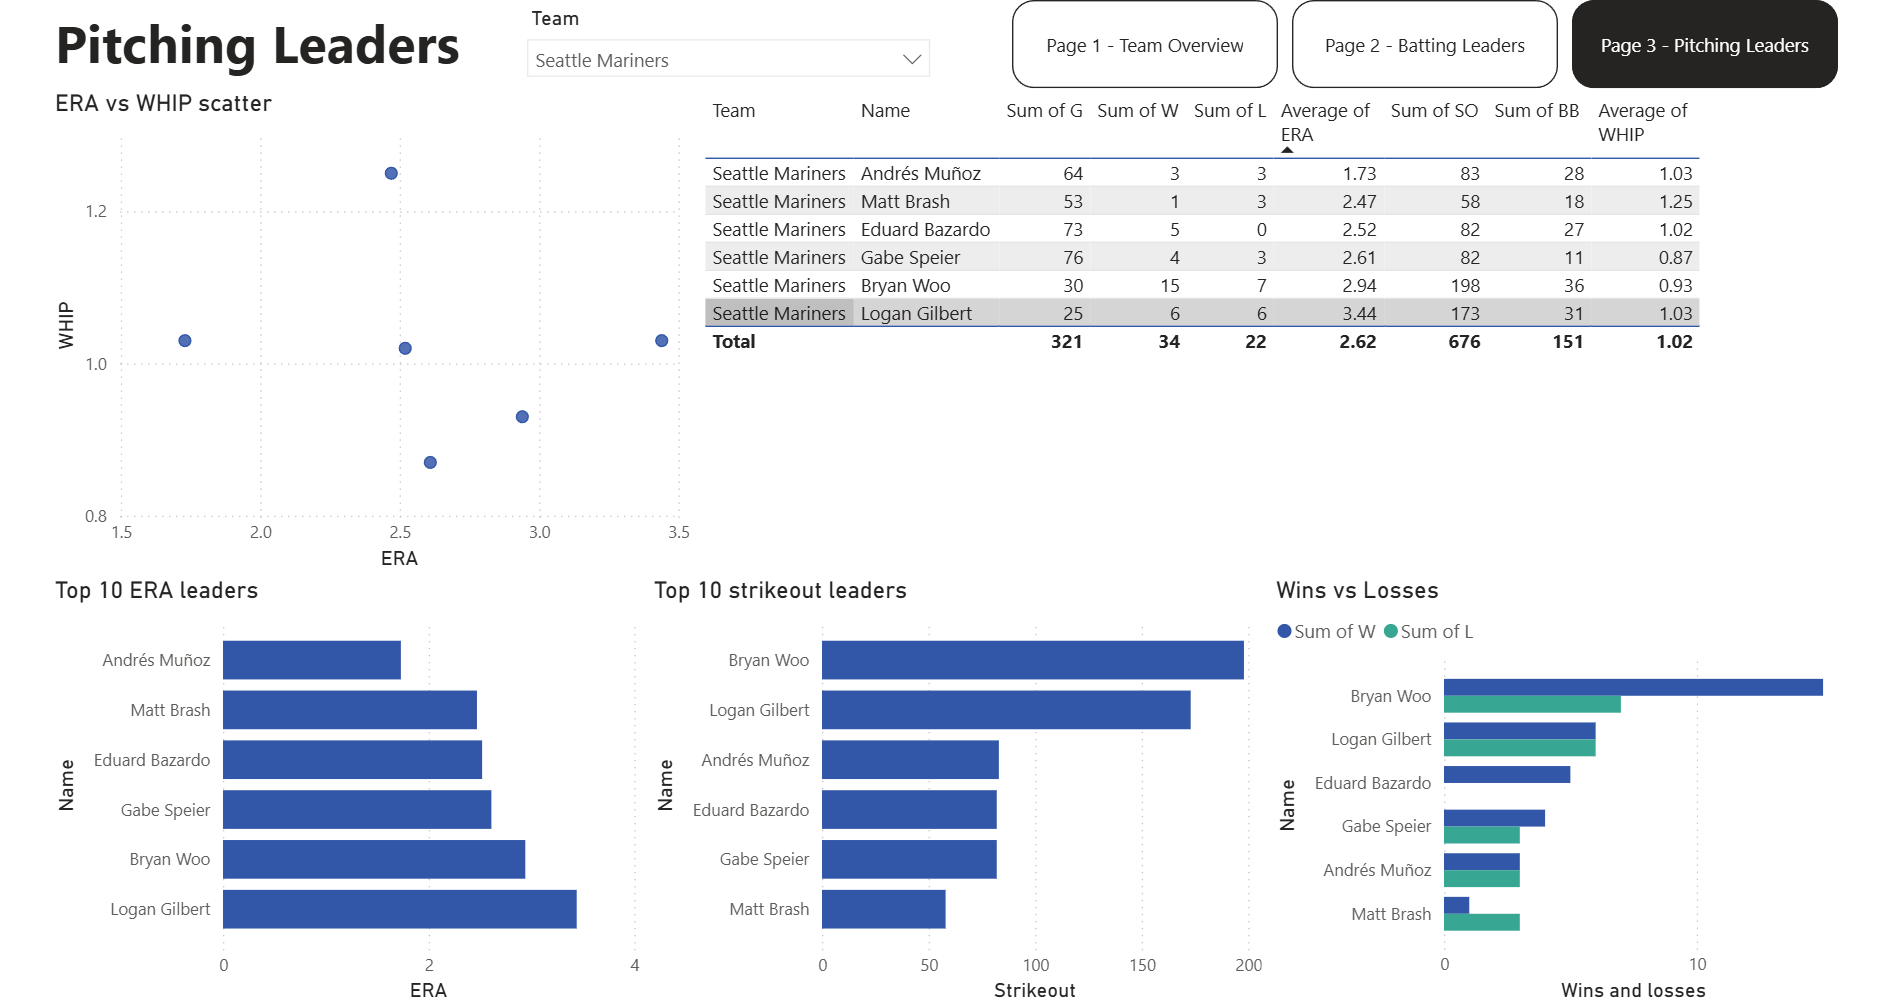

What the dashboard file says about the page in this screenshot:
{"tool":"powerbi","page":{"name":"Page 3 - Pitching Leaders","canvas":[1280,720],"ordinal":2},"visuals":[{"type":"slicer","fields":{"Values":["pitching_clean.Team"]},"box":[332.2,0,307.8,63.3],"z":0},{"type":"barChart","title":"Top 10 ERA leaders","fields":{"Category":["pitching_clean.Name"],"Y":["Sum(pitching_clean.ERA)"]},"box":[0,411.1,427.8,308.9],"z":1000},{"type":"barChart","title":"Top 10 strikeout leaders","fields":{"Category":["pitching_clean.Name"],"Y":["Sum(pitching_clean.SO)"]},"box":[427.8,411.1,444.4,308.9],"z":2000},{"type":"scatterChart","title":"ERA vs WHIP scatter","fields":{"X":["Avg(pitching_clean.ERA)"],"Y":["Avg(pitching_clean.WHIP)"],"Category":["pitching_clean.Name"]},"box":[0,63.3,463.3,347.8],"z":3000},{"type":"clusteredBarChart","title":"Wins vs Losses","fields":{"Category":["pitching_clean.Name"],"Y":["Sum(pitching_clean.W)","Sum(pitching_clean.L)"]},"box":[872.2,411.1,407.8,308.9],"z":4000},{"type":"tableEx","fields":{"Values":["pitching_clean.Team","pitching_clean.Name","Sum(pitching_clean.G)","Sum(pitching_clean.W)","Sum(pitching_clean.L)","Avg(pitching_clean.ERA)","Sum(pitching_clean.SO)","Sum(pitching_clean.BB)","Avg(pitching_clean.WHIP)"]},"box":[463.3,63.3,816.7,347.8],"z":5000},{"type":"pageNavigator","box":[688.9,0,591.1,63.3],"z":6000},{"type":"textbox","box":[0,0,300,62.2],"z":7000}]}

Visuals, with their boxes on the page's 1280x720 design canvas (x1, y1, x2, y2). These are canvas units, not pixel positions in the 1883x1004 screenshot, which may show the page scaled, cropped or inside an application window:
slicer - pitching_clean.Team: <box>332,0,640,63</box>
"Top 10 ERA leaders" barChart: <box>0,411,428,720</box>
"Top 10 strikeout leaders" barChart: <box>428,411,872,720</box>
"ERA vs WHIP scatter" scatterChart: <box>0,63,463,411</box>
"Wins vs Losses" clusteredBarChart: <box>872,411,1280,720</box>
tableEx - pitching_clean.Team x pitching_clean.Name: <box>463,63,1280,411</box>
pageNavigator: <box>689,0,1280,63</box>
textbox: <box>0,0,300,62</box>
